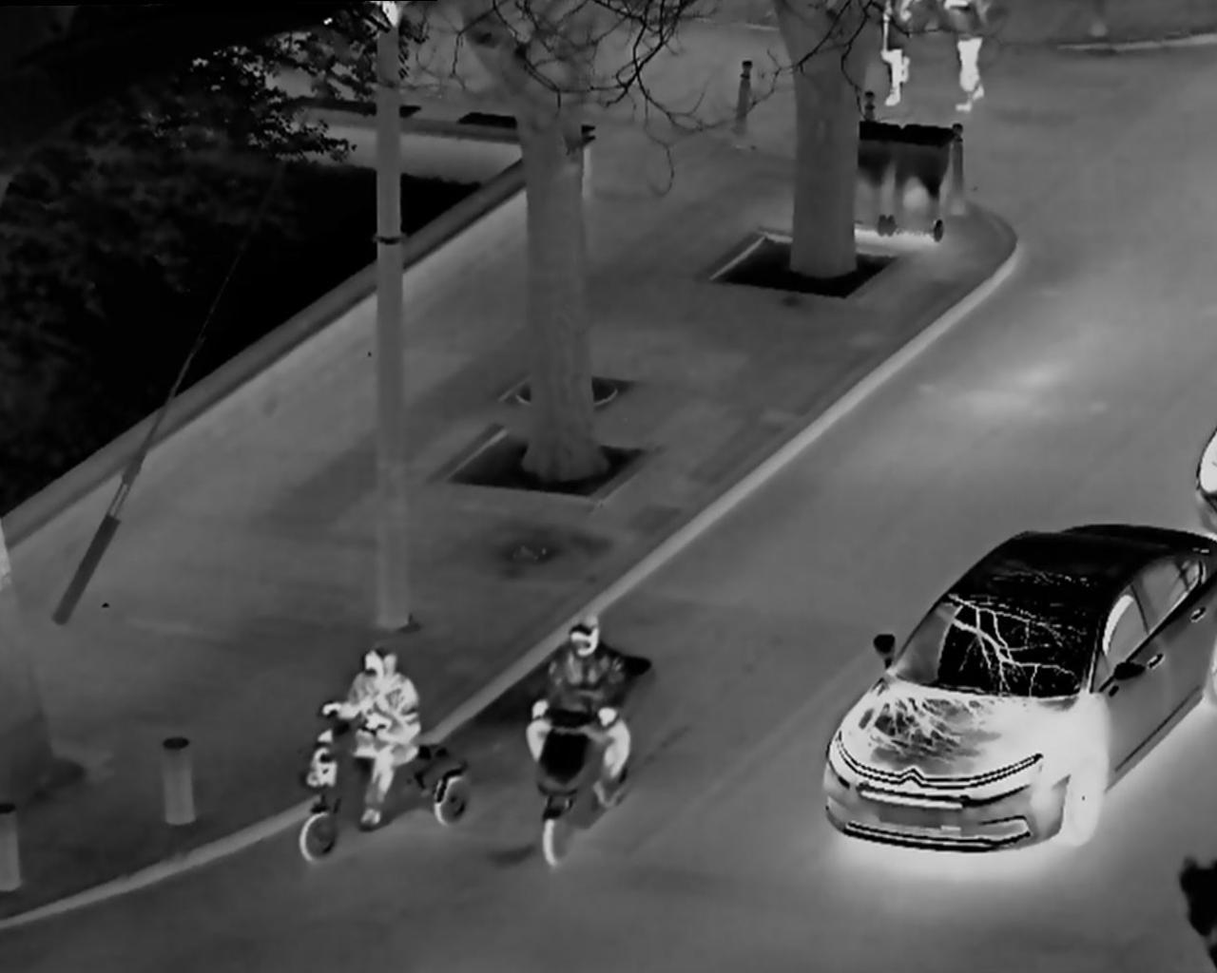person: (524, 604, 645, 865), (323, 629, 428, 849)
